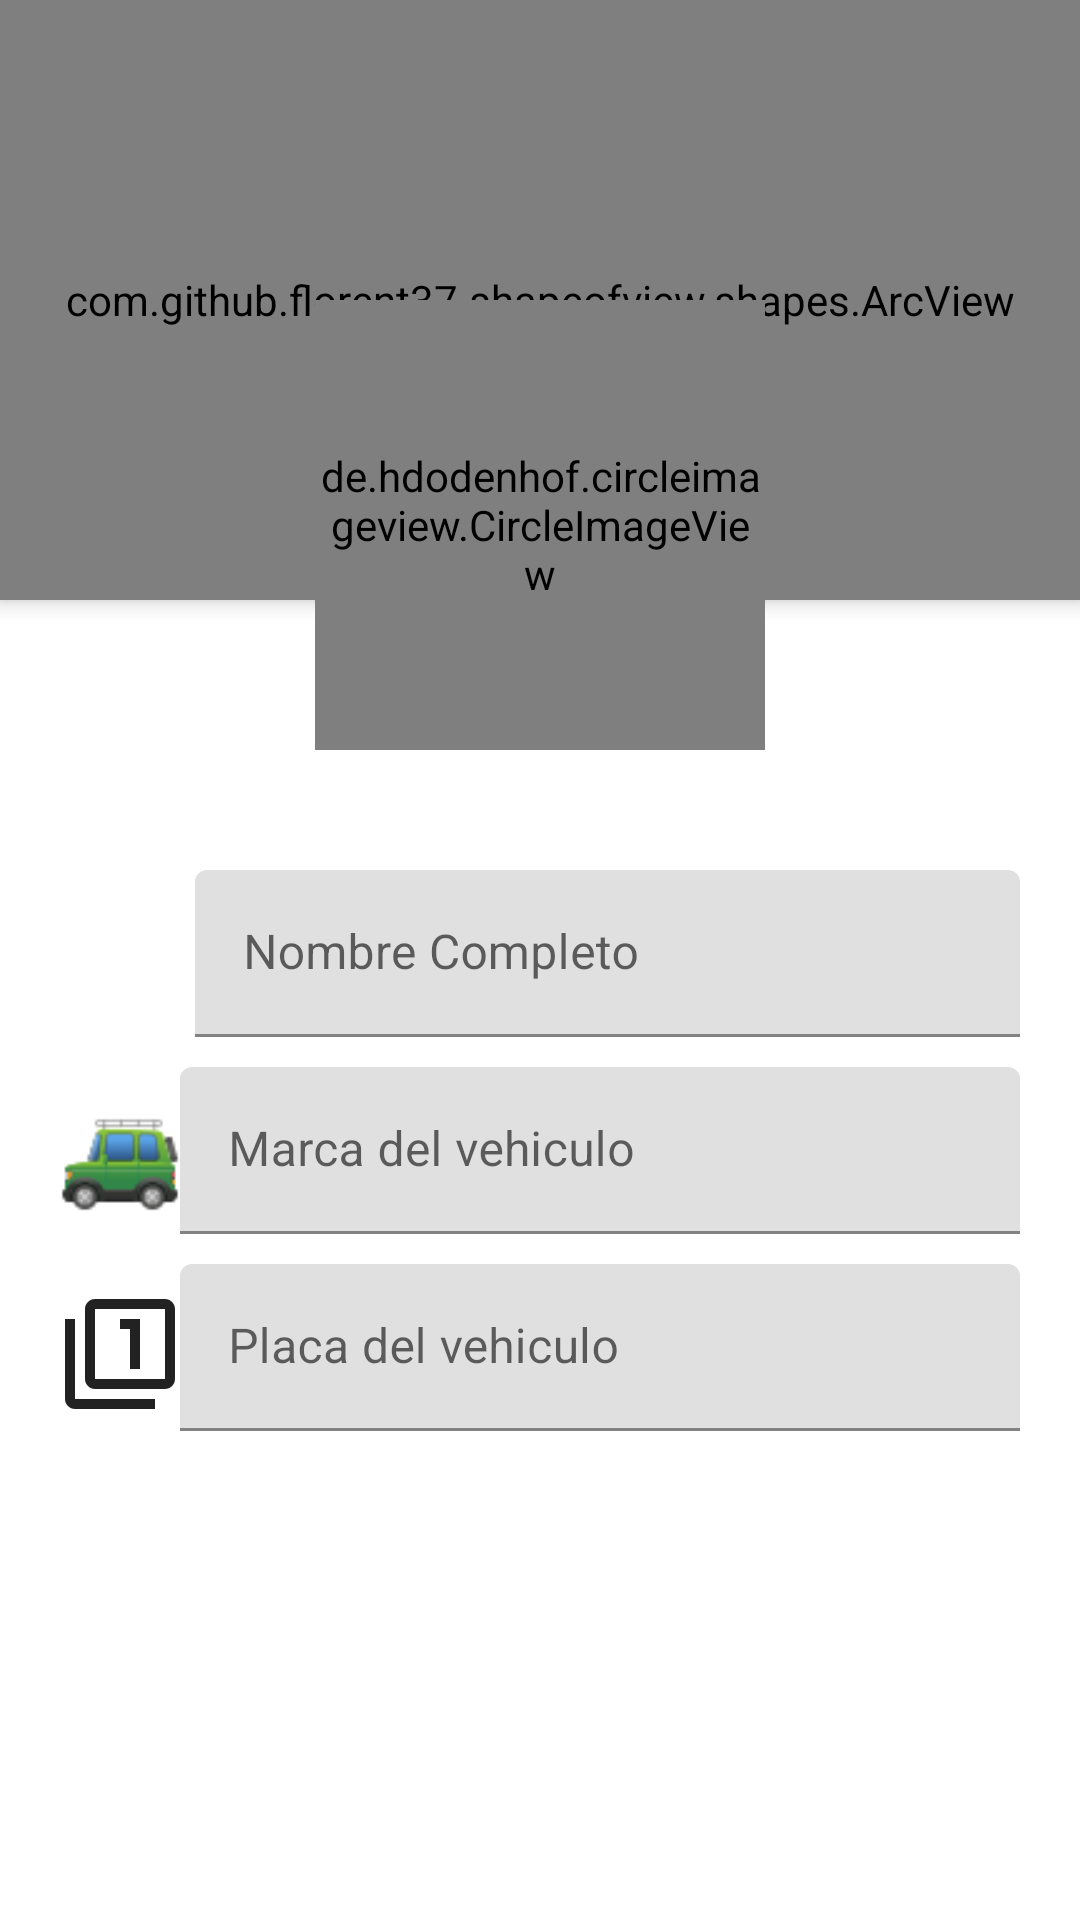

Screen size 1080×1920. Icon name, then its center in pixels as (x,y):
vehicle: (120,1164)
